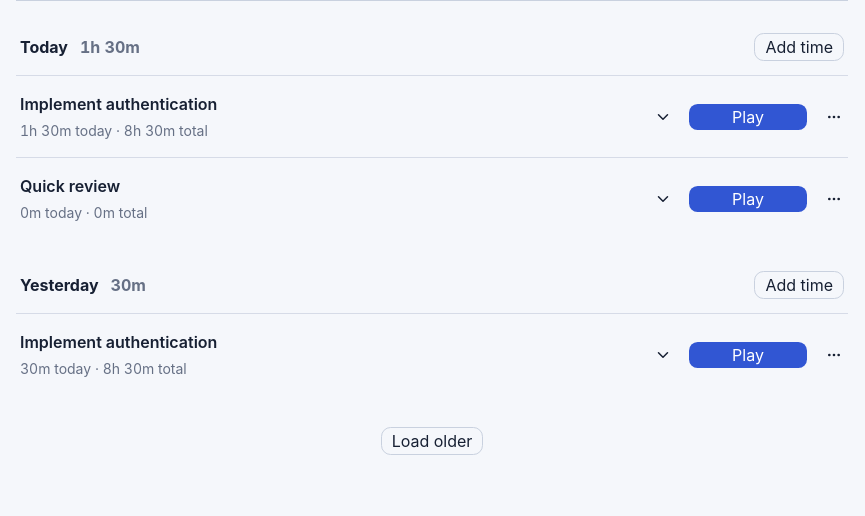
Test: DailyHistory › shows labeled correction actions only for closed intervals without changing expansion from Play
Step 1. Click the button with aria-label "Play Implement authentication" → x=748, y=116, box [688,102,808,130]
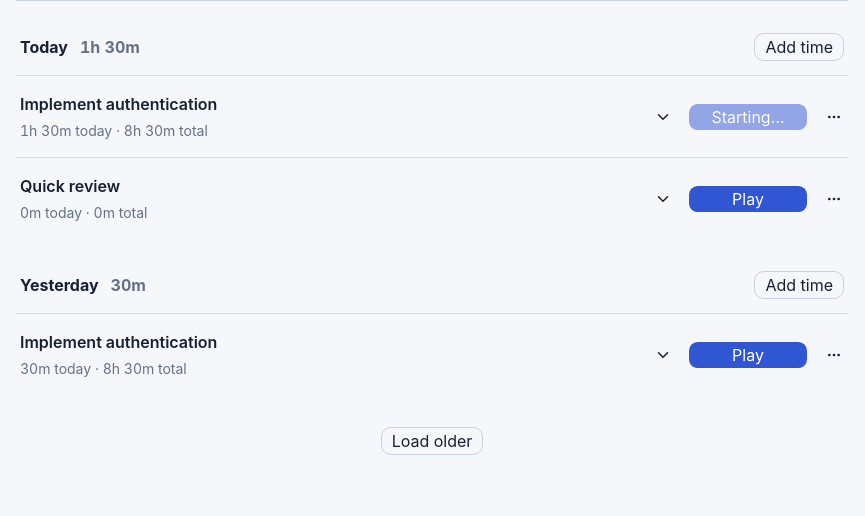
Step 2. Click the button "Implement authentication" → x=119, y=104, box [16,76,676,157]
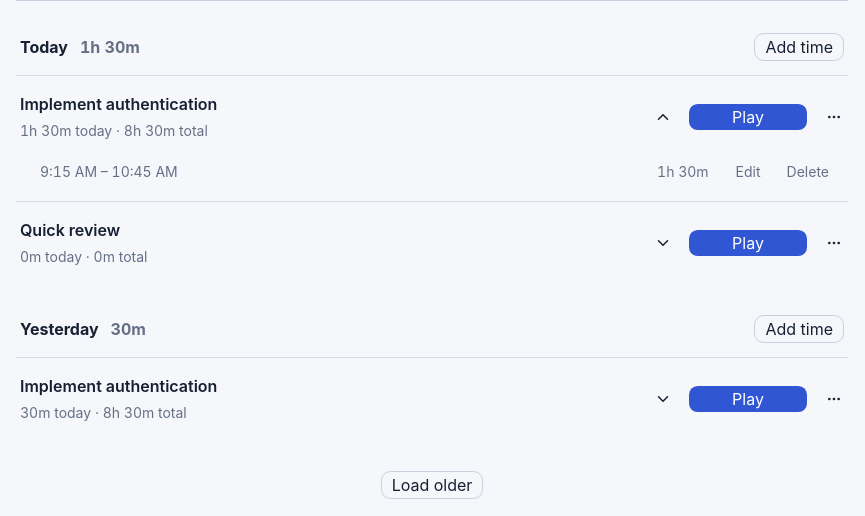
Check: the button "Edit" is enabled, box [725,157,772,185]
Check: the button "Delete" is enabled, box [776,157,840,185]
